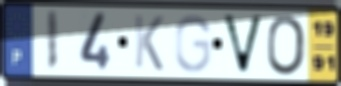4: (77, 10, 116, 75)
G: (173, 13, 213, 75)
I: (45, 10, 60, 74)
K: (132, 13, 165, 73)
O: (265, 14, 308, 78)
V: (220, 12, 266, 77)
